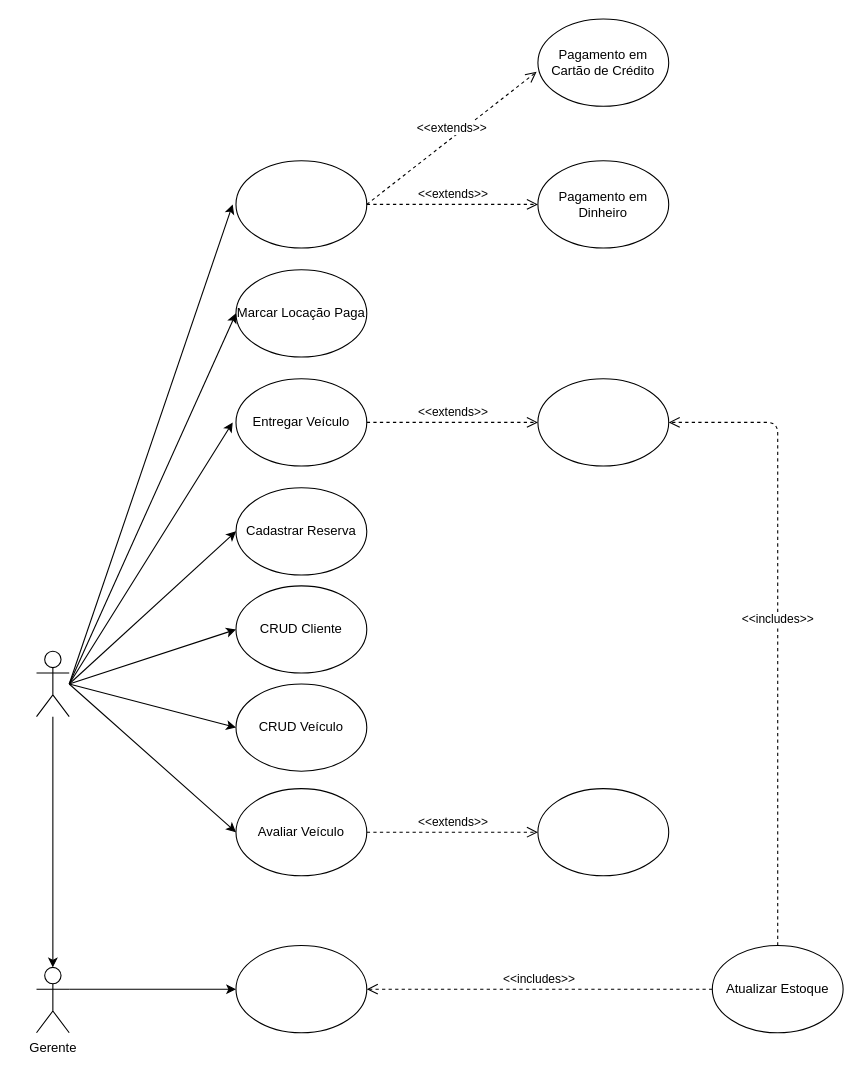
The diagram is 862 pixels wide and 1075 high, and some of its shapes have lost their labels. Each missing label, with the centre of its shape:
"Avaliar Estoque de Veículos" belongs at pixel 301 988.
"Enviar para Manutenção" belongs at pixel 603 832.
"Funcionário" belongs at pixel 52 683.
"Receber Pagamento" belongs at pixel 301 204.
"Receber Veículo" belongs at pixel 603 422.
